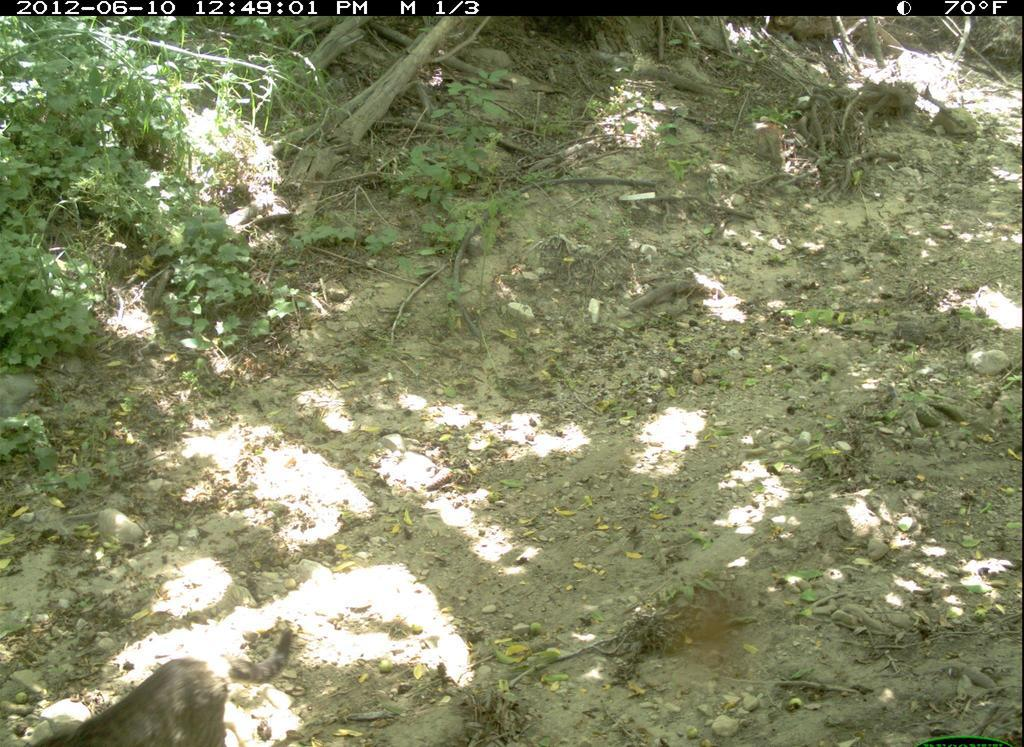cat: (2, 648, 249, 747)
